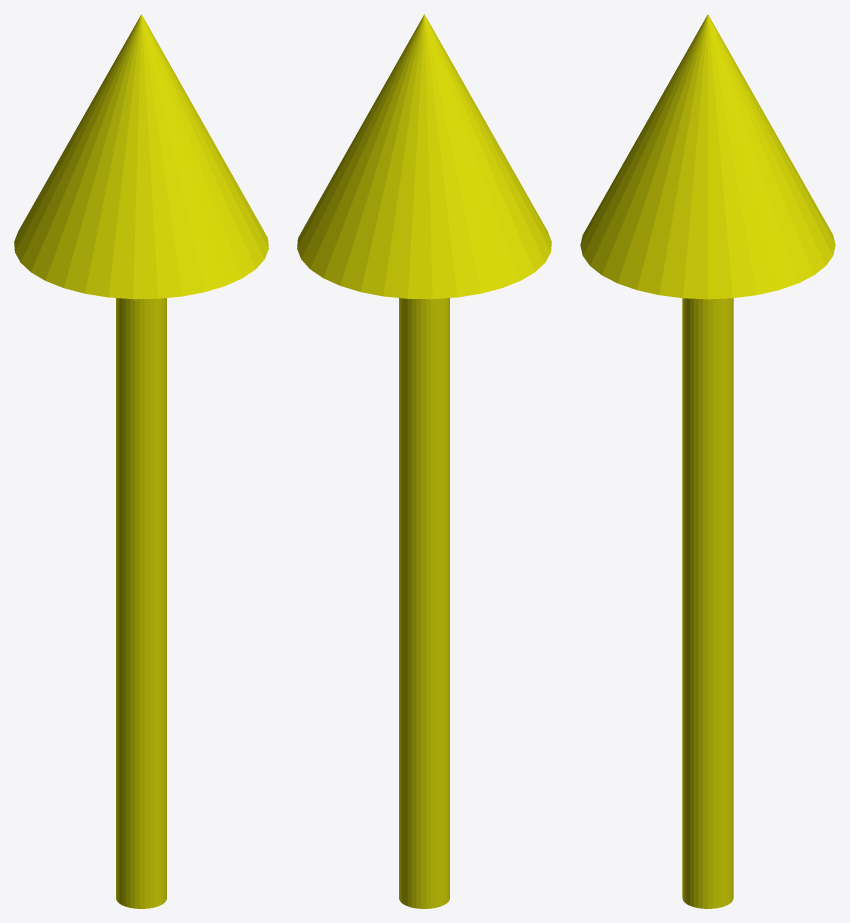
Rendered from arrow.fbx.
3 views of the same model, side by side, from view 1: azimuth 30°, elevation 25°; view 2: azimuth 150°, elevation 25°; view 3: azimuth 270°, elevation 25° (orthographic).
Visible parts, largest first — view 1: Cone.001, Cylinder.001; view 2: Cone.001, Cylinder.001; view 3: Cone.001, Cylinder.001.
Part boxes in pixels (x1,y1,x2,y2): Cone.001: (14,14,268,299); Cylinder.001: (116,298,166,908); Cone.001: (297,14,551,299); Cylinder.001: (399,298,449,908); Cone.001: (580,14,835,299); Cylinder.001: (682,298,733,908).
Size of the model in its own units: 20 by 76.43 by 20.
